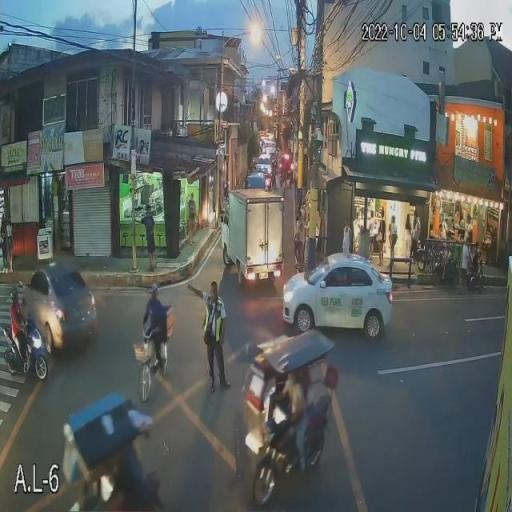helmet: (10, 290, 21, 302)
motorcycle: (245, 388, 333, 510), (0, 311, 55, 381)
rider: (274, 362, 310, 460), (141, 283, 172, 374), (9, 278, 39, 362)
